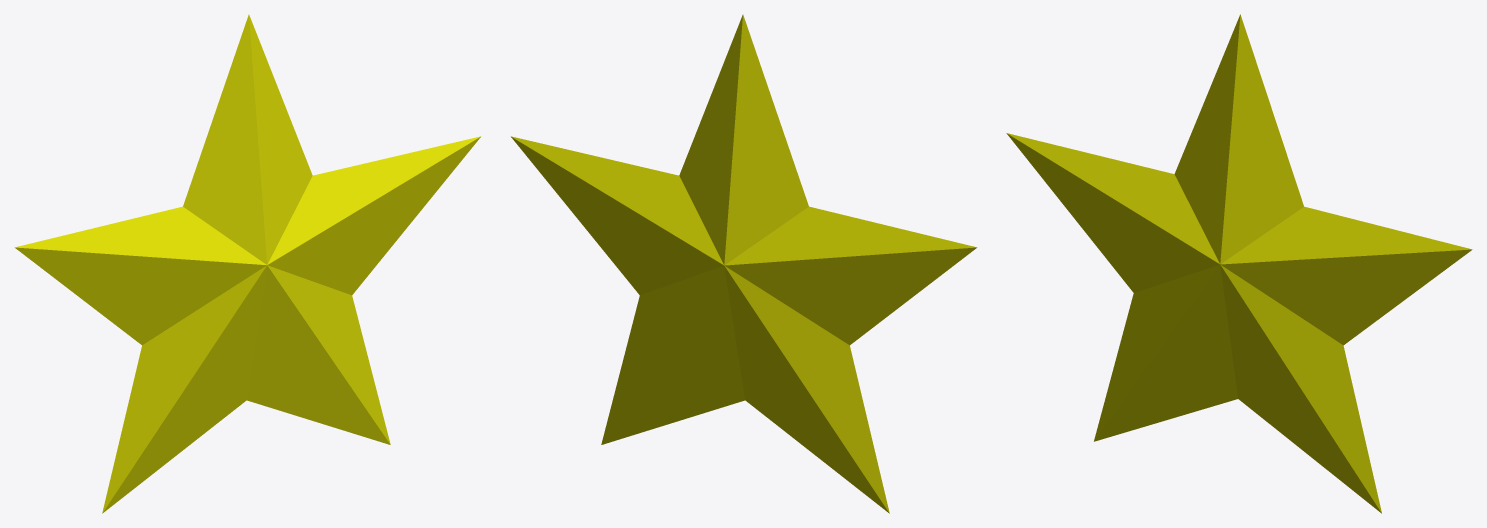
The model's file is star.fbx.
3 renders of one model, left to right at view 1: azimuth 30°, elevation 25°; view 2: azimuth 150°, elevation 25°; view 3: azimuth 330°, elevation 25°, orthographic.
Parts seen in each view (by area): view 1: star; view 2: star; view 3: star.
Boxes of the visible parts, left/top/right/bottom form: star: left=14, top=14, right=480, bottom=513; star: left=511, top=14, right=977, bottom=513; star: left=1006, top=14, right=1472, bottom=513.
Size of the model in its own units: 15.71 by 14.97 by 2.27.
